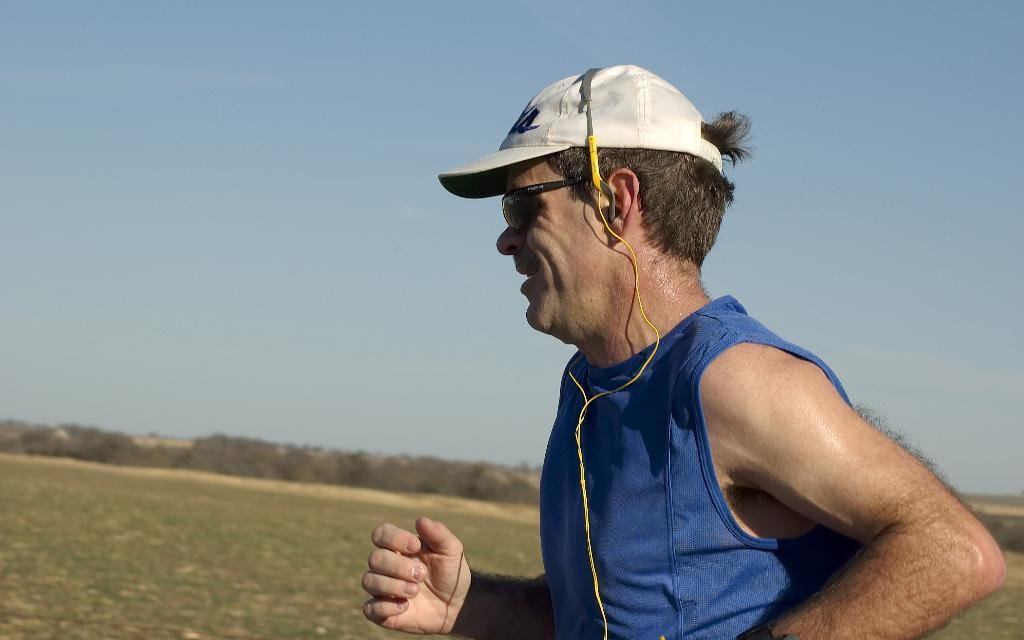Hat: (437, 61, 721, 201)
